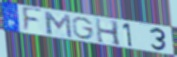1: (122, 23, 134, 48)
3: (149, 27, 167, 52)
F: (21, 6, 44, 33)
G: (71, 16, 96, 41)
H: (94, 16, 123, 47)
M: (42, 10, 74, 39)
